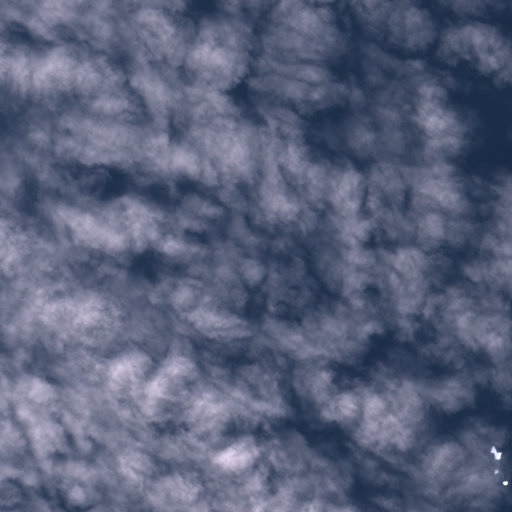Iceberg: (490, 446, 501, 459), (502, 481, 508, 485), (494, 469, 498, 474)
